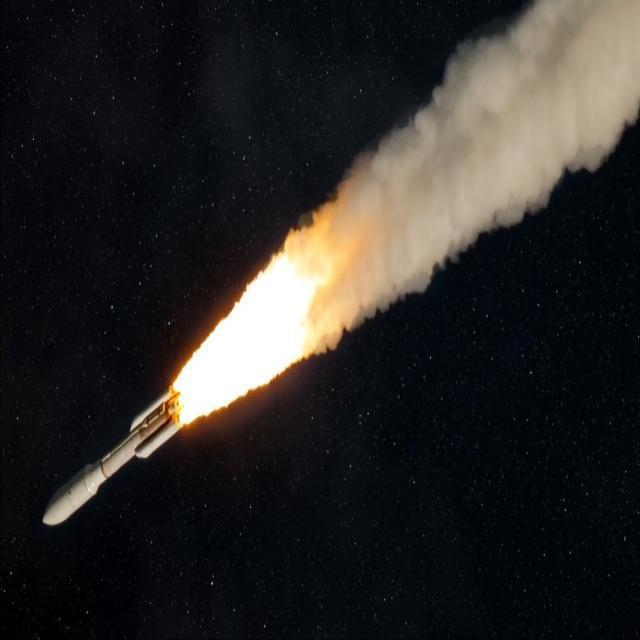missile: (35, 389, 181, 537)
